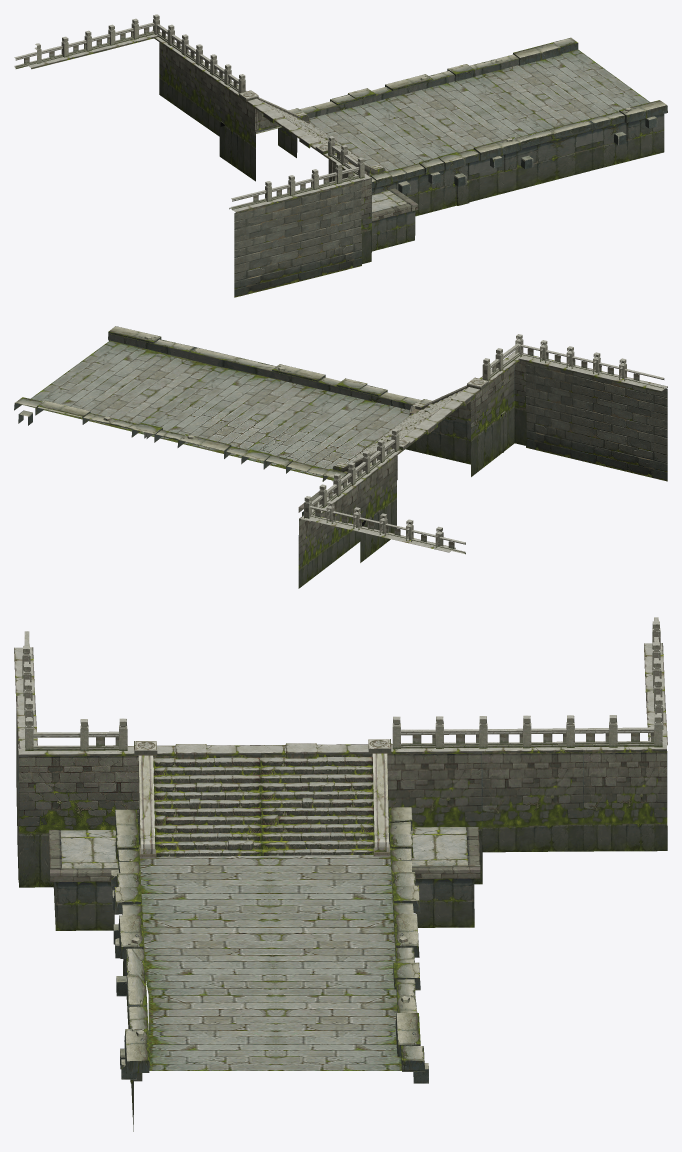
The model's file is jd_piao_5.FBX.
3 views of the same model, one above another, from view 1: azimuth 30°, elevation 25°; view 2: azimuth 150°, elevation 25°; view 3: azimuth 270°, elevation 25° (orthographic). The views are drawn at different scales.
Parts seen in each view (by area): view 1: jd_piao_5; view 2: jd_piao_5; view 3: jd_piao_5.
Part boxes in pixels (box(x1,y1,x2,y2)): jd_piao_5: box(14, 14, 667, 297); jd_piao_5: box(14, 326, 667, 588); jd_piao_5: box(14, 617, 667, 1131).
Size of the model in its own units: 38.08 by 7.81 by 28.03.
